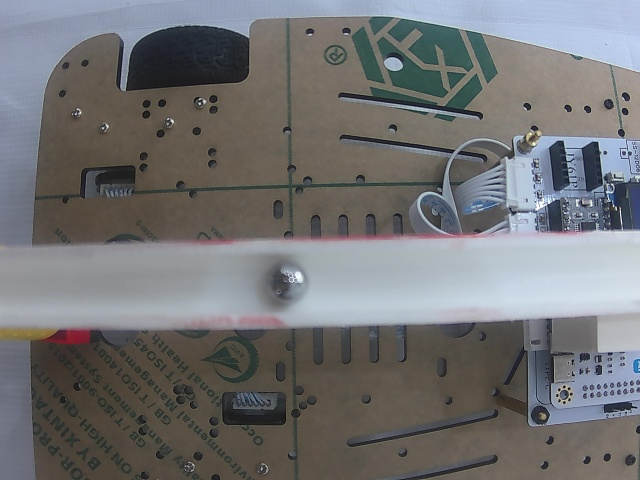steelball: (264, 263, 312, 302)
